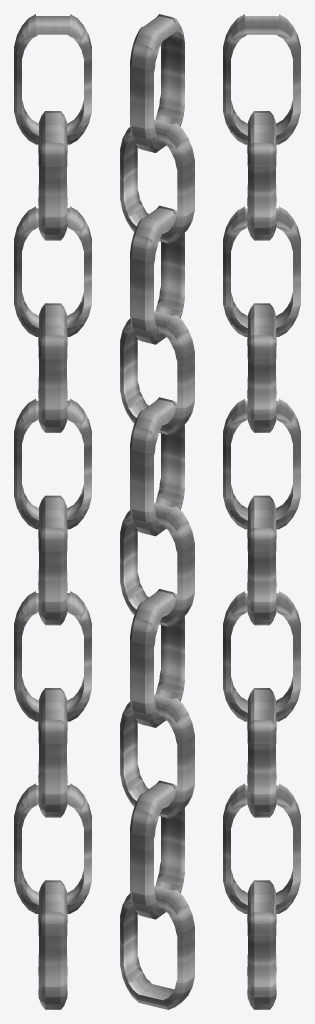
The model's file is chain.glb.
3 renders of one model, left to right at view 1: azimuth 90°, elevation 25°; view 2: azimuth 150°, elevation 25°; view 3: azimuth 270°, elevation 25°, orthographic.
Visible parts, largest first — view 1: Cube.002_0; view 2: Cube.002_0; view 3: Cube.002_0.
Boxes of the visible parts, left/top/right/bottom form: Cube.002_0: left=14, top=14, right=91, bottom=1009; Cube.002_0: left=120, top=14, right=194, bottom=1009; Cube.002_0: left=223, top=14, right=300, bottom=1009.
Size of the model in its own units: 1.26 by 17.58 by 1.26.
1 material, 1 textured.
